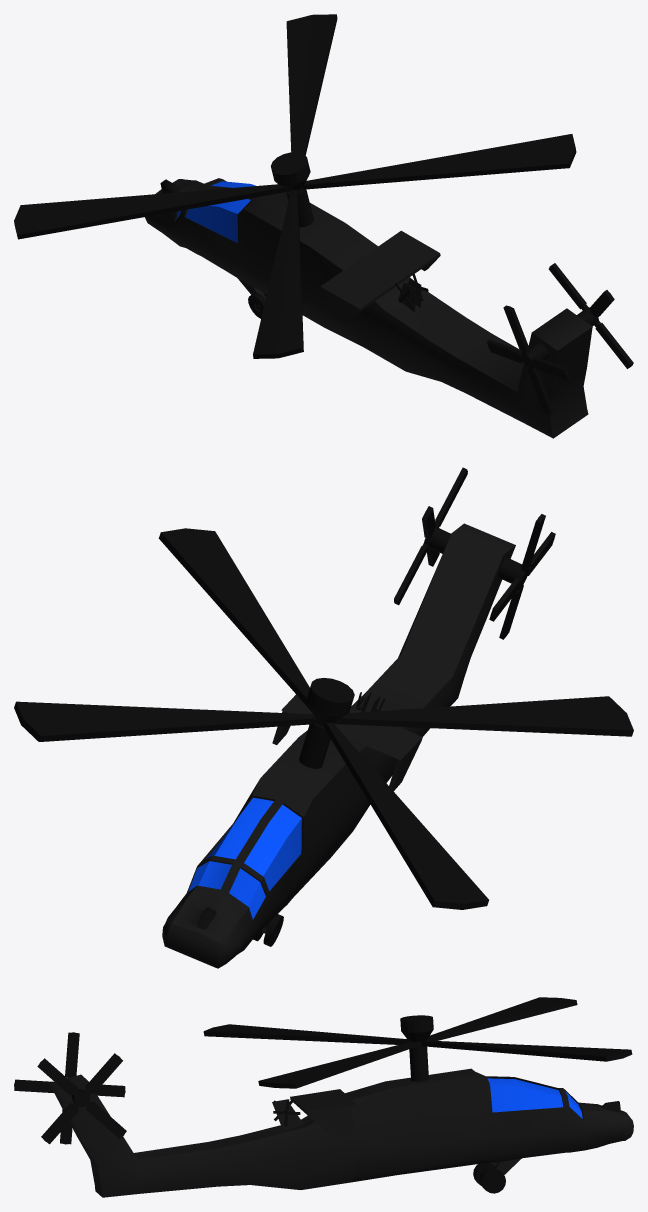
The model's file is Helicoptero.FBX.
3 views of the same model, one above another, from view 1: azimuth 30°, elevation 25°; view 2: azimuth 150°, elevation 25°; view 3: azimuth 270°, elevation 25° (orthographic). The views are drawn at different scales.
Visible parts, largest first — view 1: HELICOPTERO003, Helice Central001, Helice Trasera002, Helice Trasera003; view 2: HELICOPTERO003, Helice Central001, Helice Trasera002, Helice Trasera003; view 3: HELICOPTERO003, Helice Central001, Helice Trasera003, Helice Trasera002, Rueda 008.
Boxes of the visible parts, <box> form: HELICOPTERO003: <box>145,178,592,438</box>; Helice Central001: <box>14,14,576,358</box>; Helice Trasera002: <box>487,305,570,414</box>; Helice Trasera003: <box>548,263,633,368</box>; HELICOPTERO003: <box>162,523,515,968</box>; Helice Central001: <box>14,528,633,909</box>; Helice Trasera002: <box>489,514,555,639</box>; Helice Trasera003: <box>394,467,467,605</box>; HELICOPTERO003: <box>50,1068,633,1197</box>; Helice Central001: <box>203,997,632,1088</box>; Helice Trasera003: <box>37,1053,126,1144</box>; Helice Trasera002: <box>14,1032,125,1144</box>; Rueda 008: <box>481,1169,505,1193</box>.
Size of the model in its own units: 22.57 by 11.33 by 33.43.
